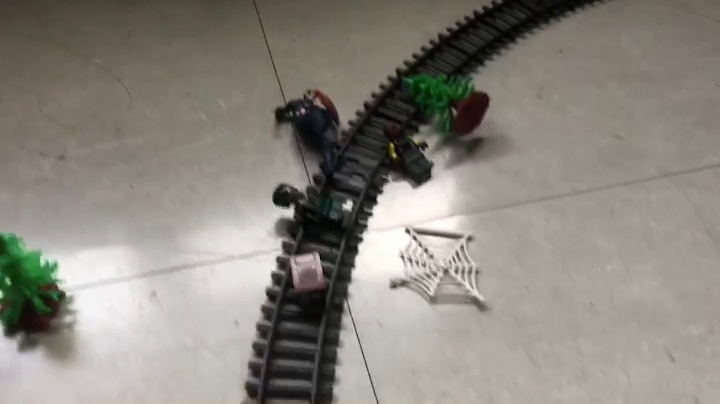box: (288, 252, 328, 315)
people: (275, 88, 346, 181), (272, 183, 354, 234), (380, 124, 435, 184)
tree: (1, 230, 68, 339), (400, 73, 492, 139)
web: (387, 225, 487, 309)
